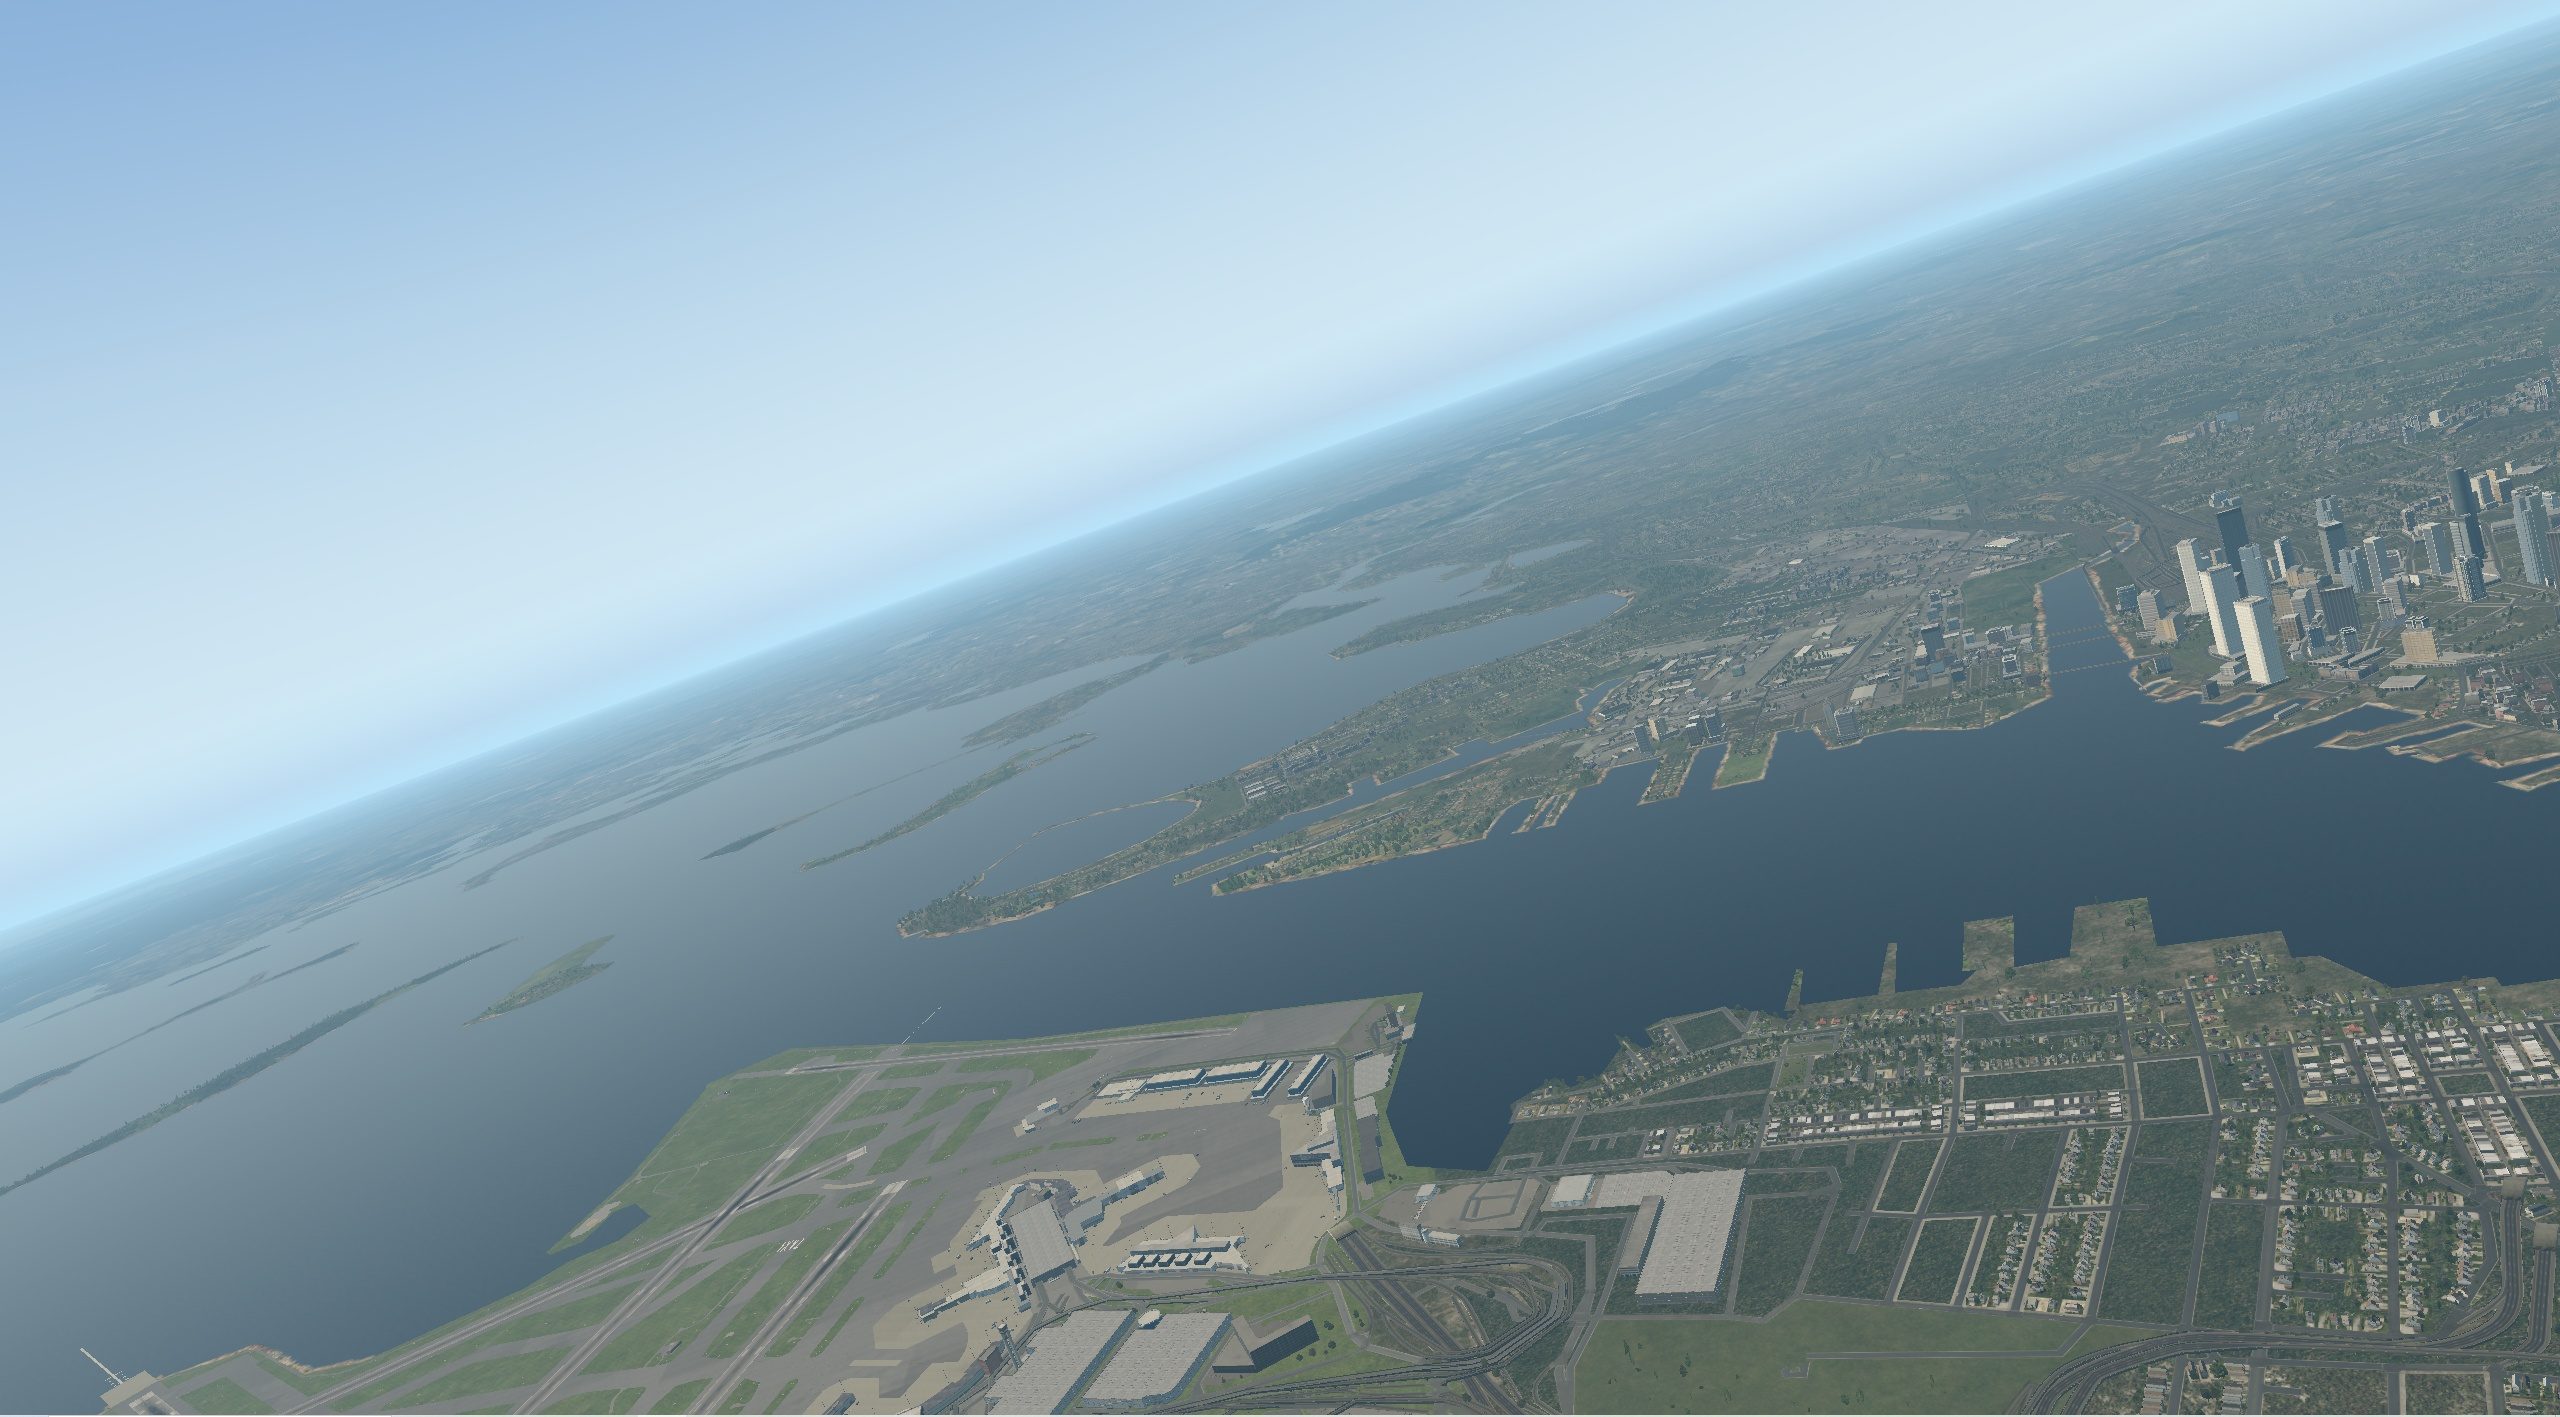aircraft: (1543, 813, 1557, 818)
